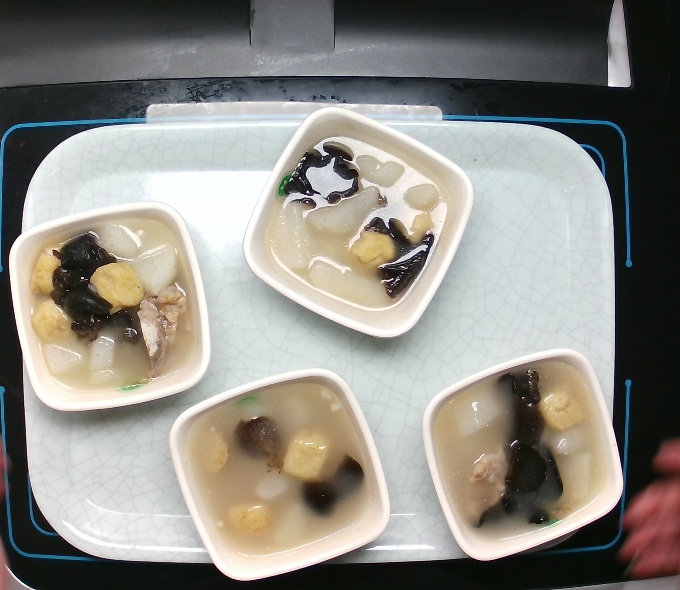wcq-ShanYaoTang: (240, 102, 478, 343), (163, 360, 399, 586), (414, 346, 629, 565), (4, 193, 213, 418)
